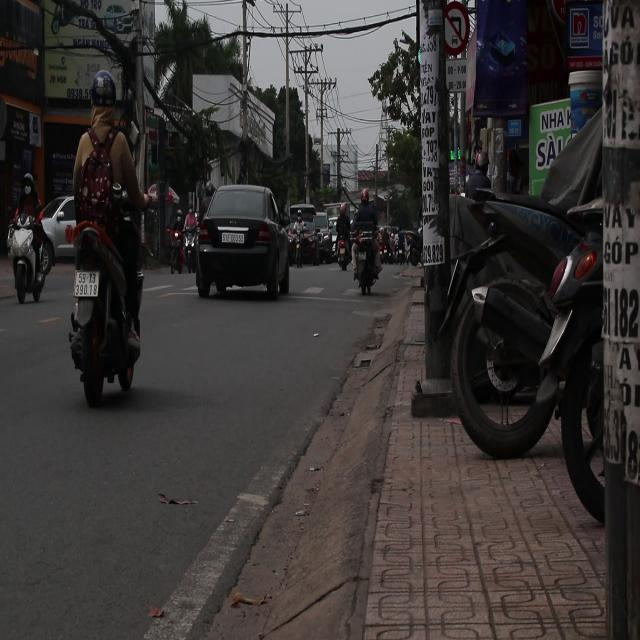car: (190, 183, 292, 301), (36, 194, 76, 264)
motorbike: (64, 206, 158, 412), (340, 203, 394, 307), (8, 187, 54, 301)
